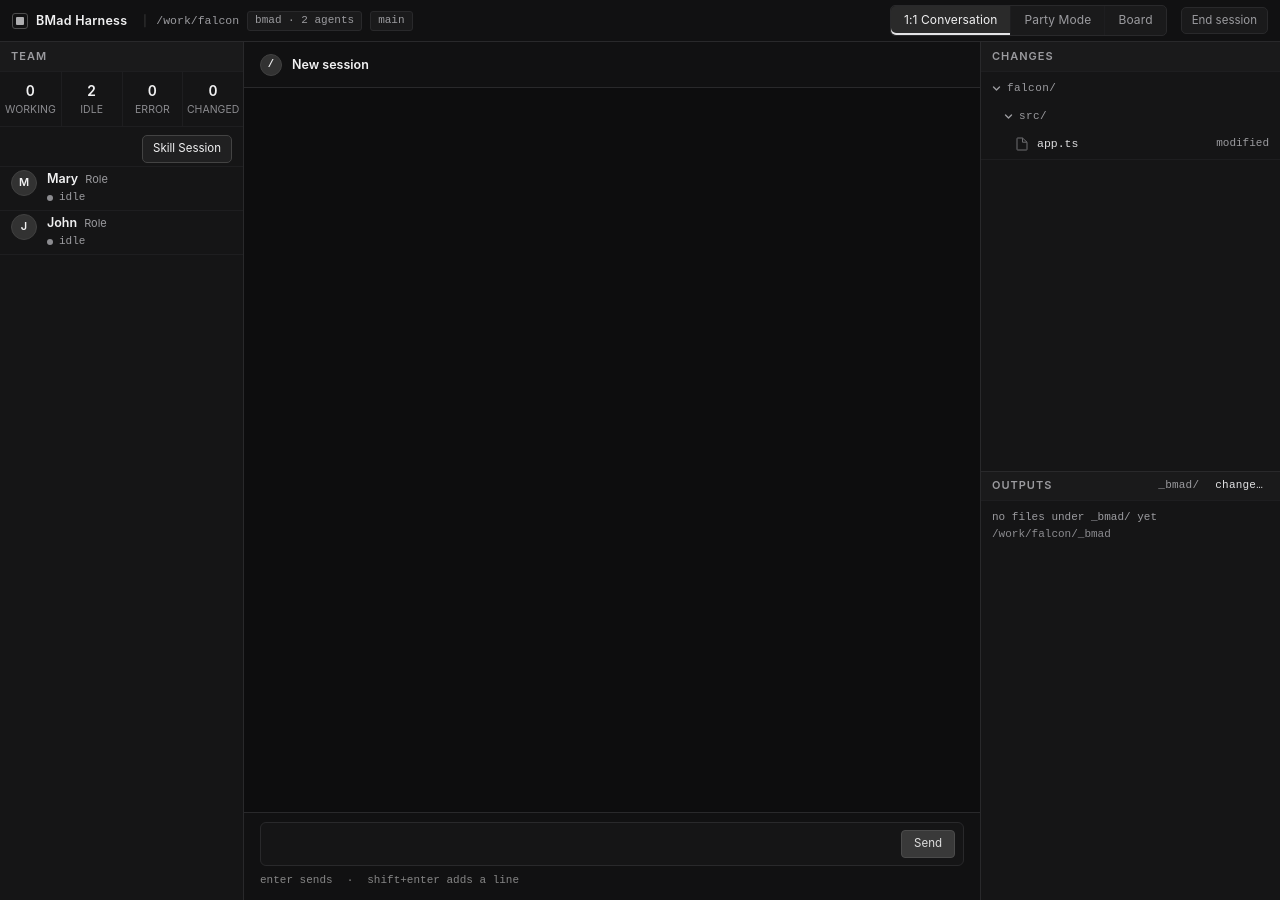
Test: App, the Board › hands the Board the snapshot getBoard answered, and shows it when Board is pressed
Click the button "Board" at (1136, 20), box [1106, 6, 1166, 35]
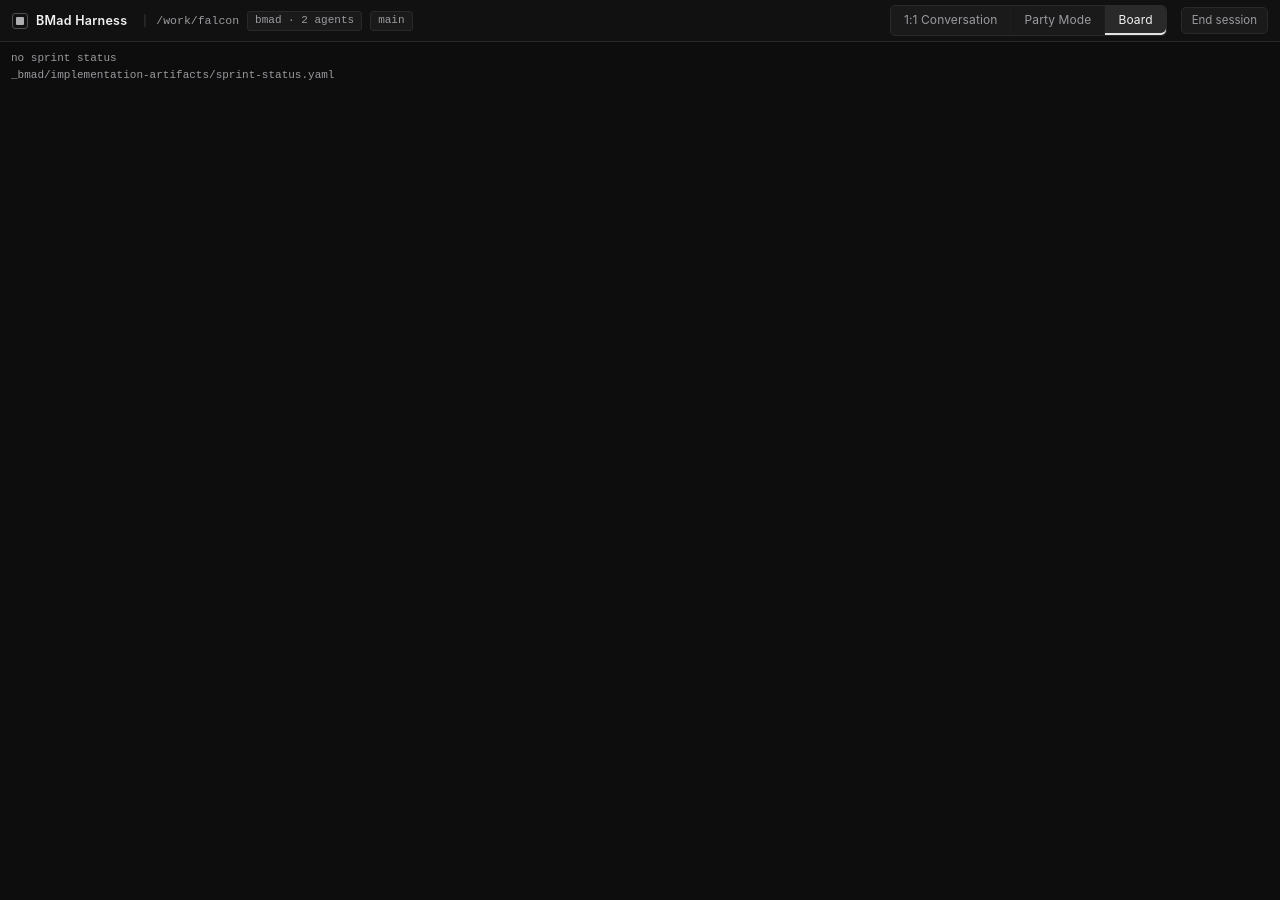
Expected: the element named "Board" shows "no sprint status", [11, 52, 117, 64]
